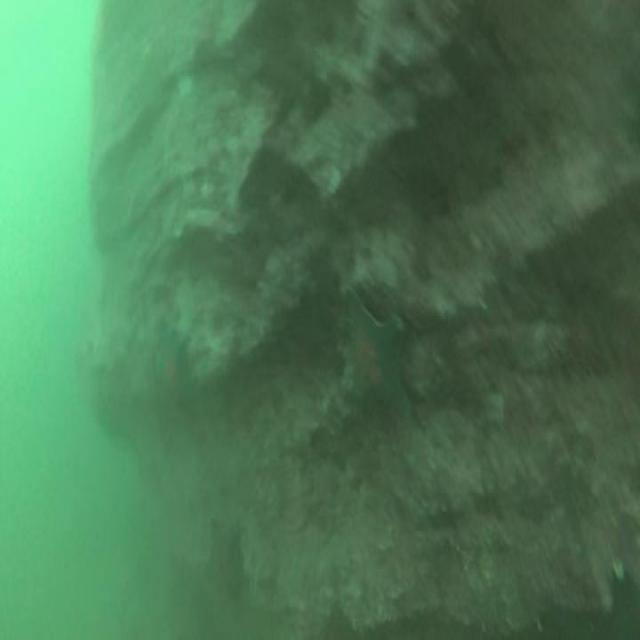starfish: (332, 280, 414, 428), (148, 319, 196, 428), (202, 512, 250, 613)
